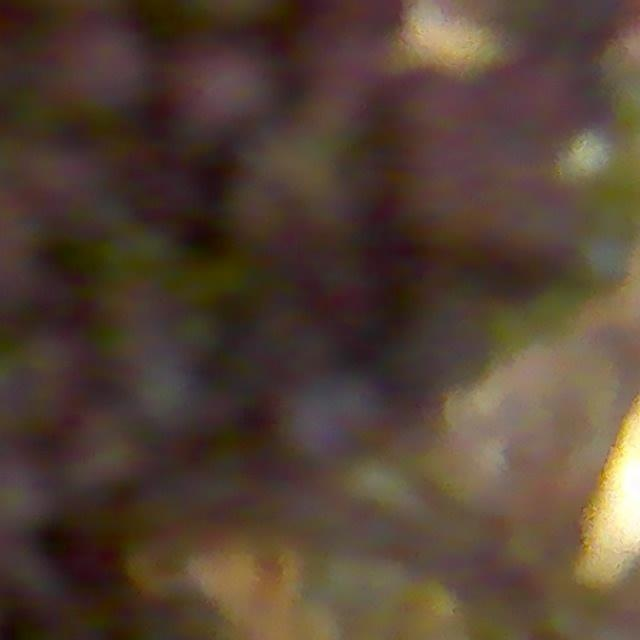SeaGrape: (48, 30, 155, 143), (165, 40, 272, 152), (481, 49, 581, 157), (398, 159, 491, 260), (298, 46, 385, 136), (388, 69, 475, 156), (495, 230, 585, 300)
